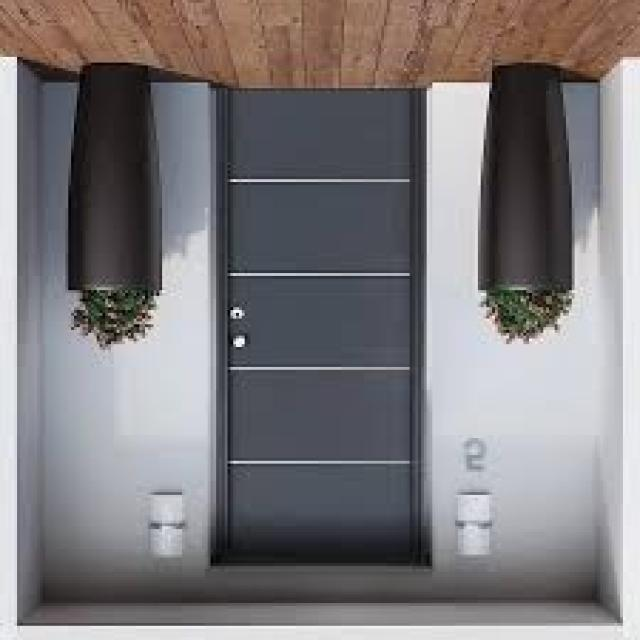door: (212, 87, 428, 567)
